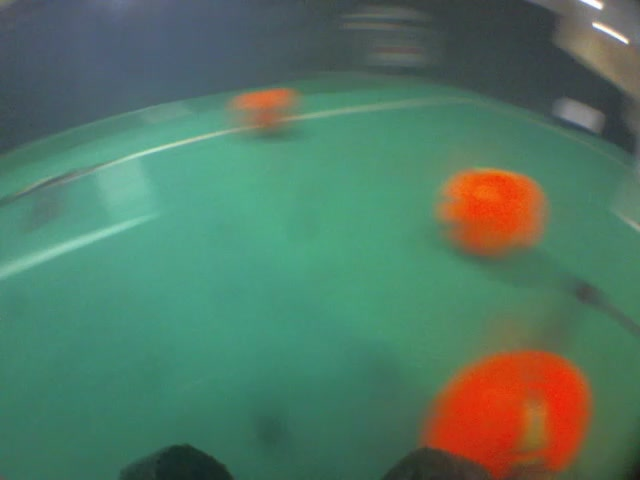ball: (419, 345, 602, 480), (430, 154, 546, 265), (222, 84, 296, 154)
